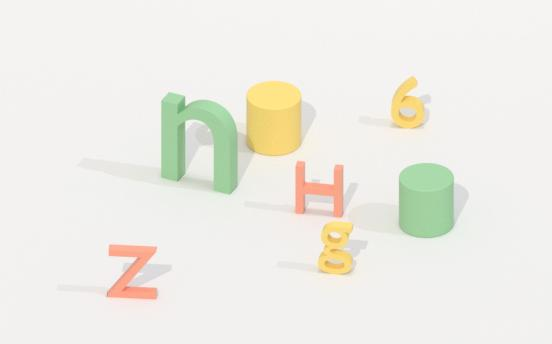6: (388, 76, 427, 129)
H-hoa: (289, 160, 350, 221)
g: (317, 221, 358, 276)
n: (157, 89, 240, 200)
tru: (241, 79, 307, 158), (397, 161, 461, 241)
z: (104, 242, 167, 300)
